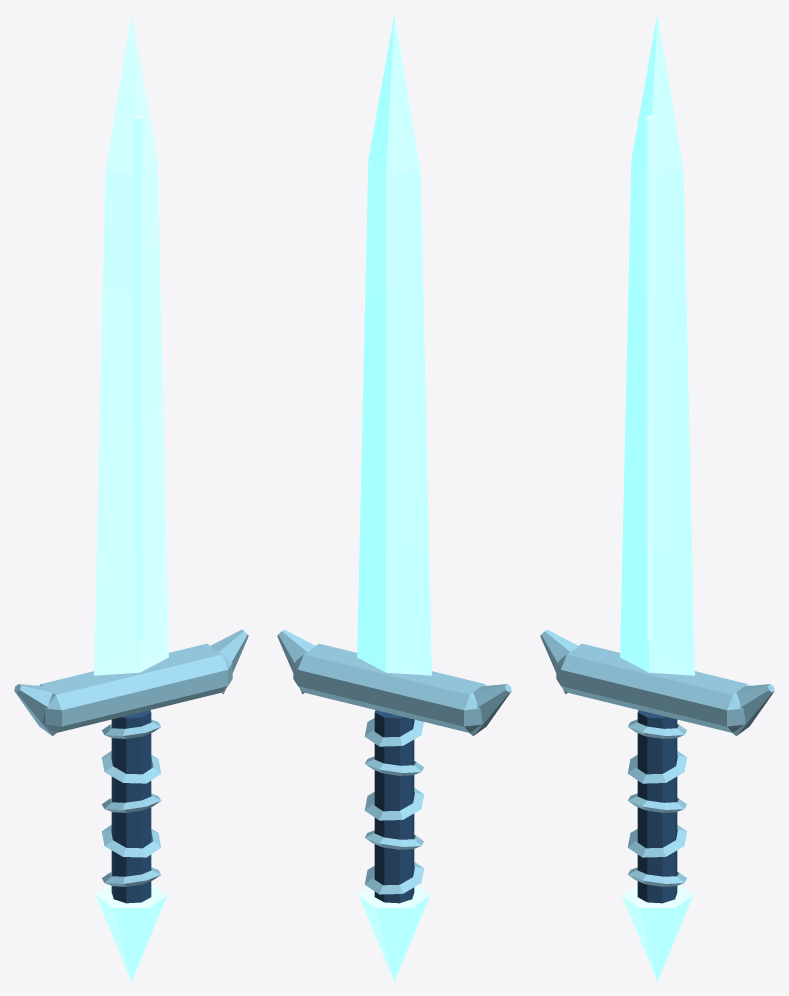
File: weapon_sword_frost_v01.glb
3 views of the same model, side by side, from view 1: azimuth 30°, elevation 25°; view 2: azimuth 150°, elevation 25°; view 3: azimuth 330°, elevation 25° (orthographic).
Parts seen in each view (by area): view 1: weapon_sword_frost; view 2: weapon_sword_frost; view 3: weapon_sword_frost.
Part boxes in pixels (left/top/right/bottom): weapon_sword_frost: left=14, top=14, right=248, bottom=981; weapon_sword_frost: left=277, top=14, right=511, bottom=981; weapon_sword_frost: left=540, top=14, right=774, bottom=981.
Size of the model in its own units: 0.2235 by 0.89 by 0.06.
